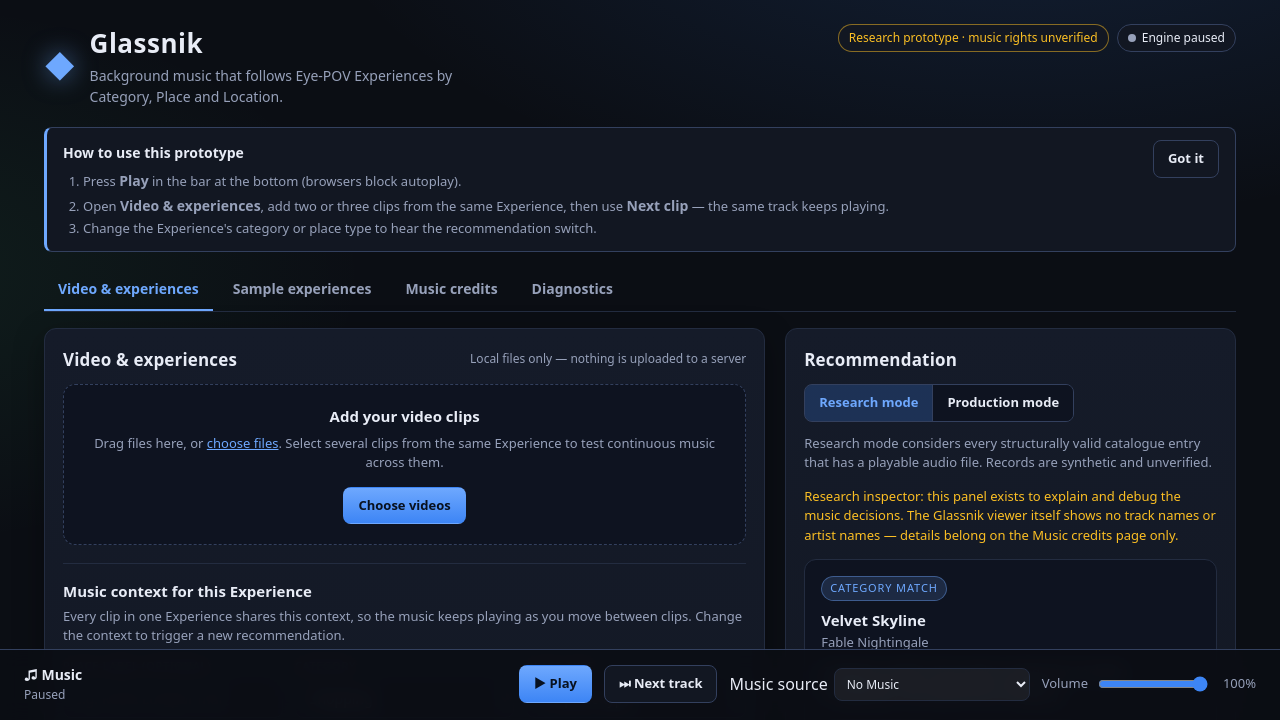
Scenario: App smoke test › lists the library on the Music credits tab, not in the viewer
Click the tab "Music credits" at (452, 289), box [391,268,512,310]
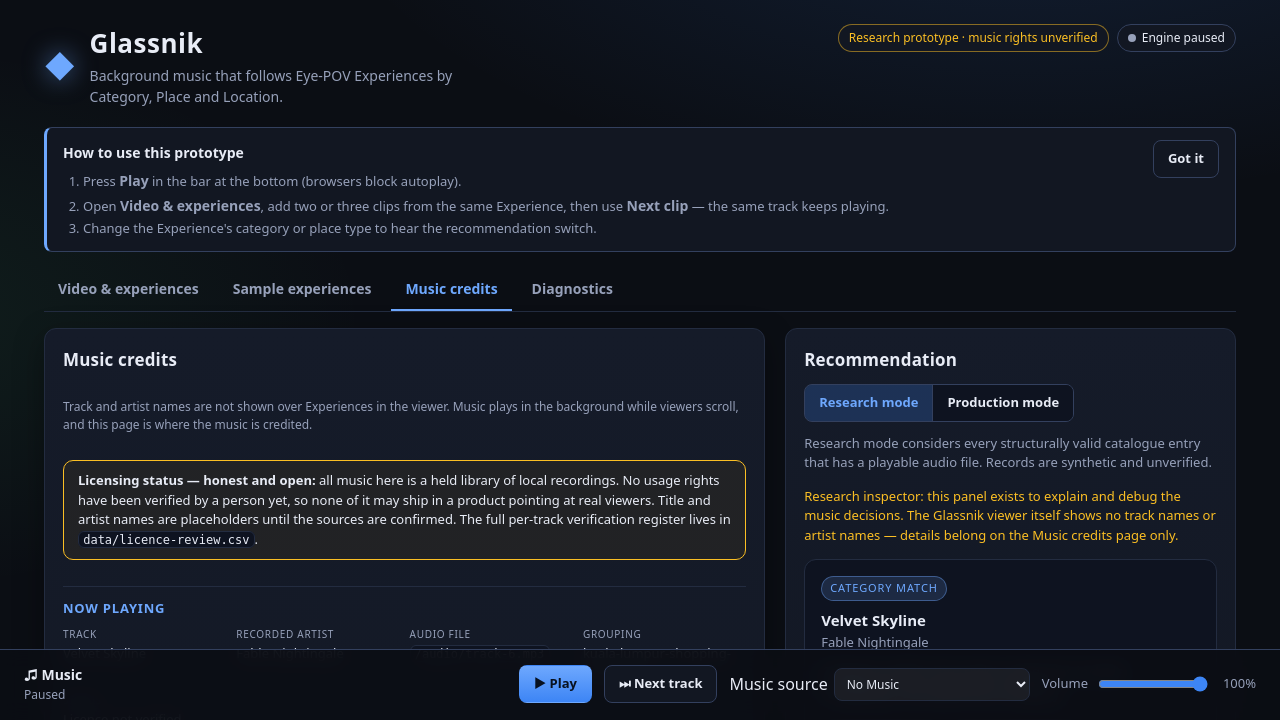
Expected: the heading "Music credits" is shown, [63,348,177,370]
Expected: the heading "Now playing" is shown, [63,599,165,617]
Expected: the text "No usage rights have been verified by a person yet" is shown, [78,471,731,528]
